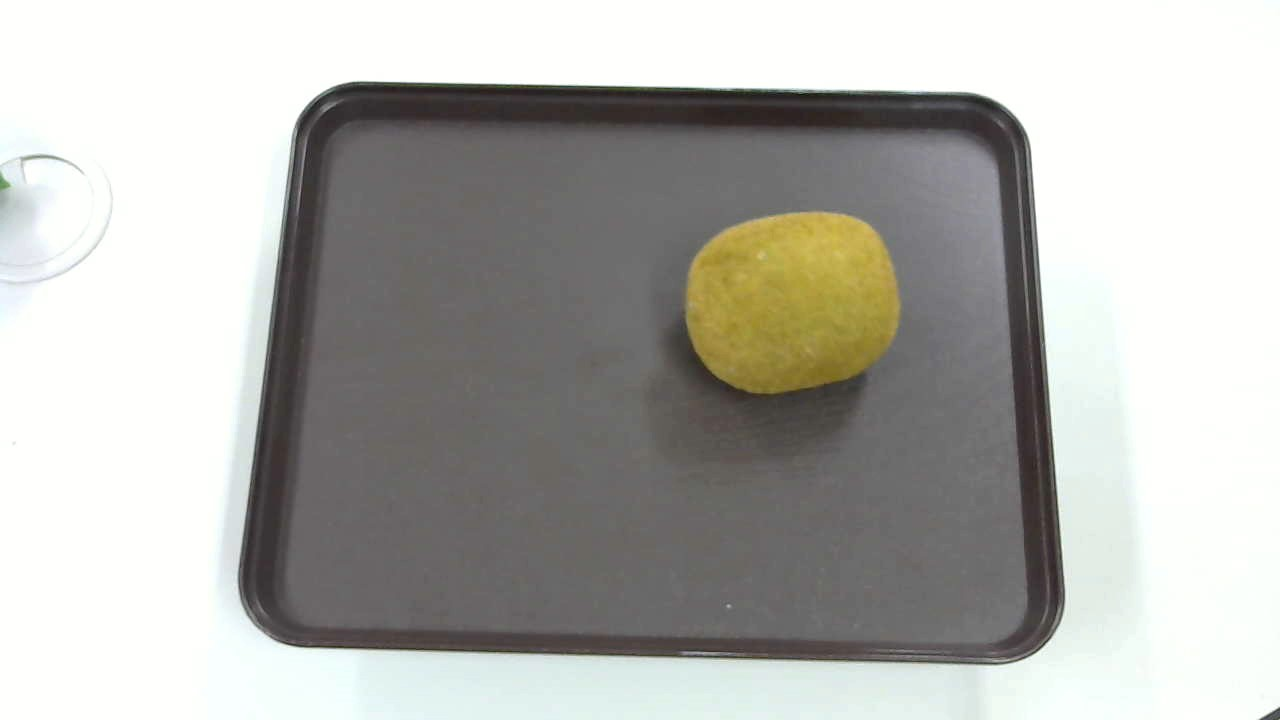mangosteen: (671, 210, 915, 402)
